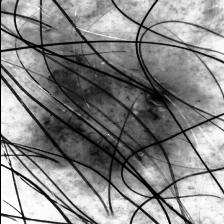Potentially Malignant Skin Tumors: (24, 54, 178, 176)
